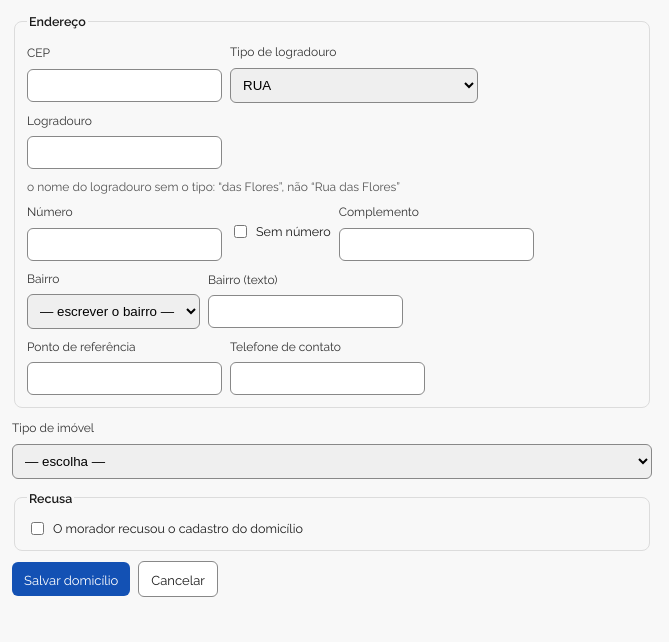
Scenario: HouseholdForm › o nome do logradouro não repete o tipo
Type "81020-000" into the field labelled "CEP" at (124, 85), box [27, 68, 222, 102]
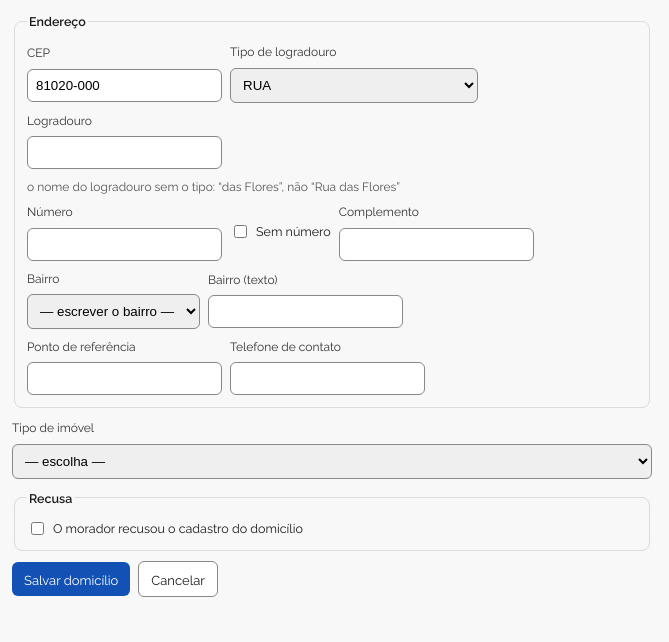
Select "RUA" in the dropdown labelled "Tipo de logradouro" at (354, 85), box [230, 68, 478, 102]
Type "das Flores" into the field labelled "Logradouro" at (124, 152), box [27, 136, 222, 169]
Type "120" into the field labelled "Número" at (124, 244), box [27, 228, 222, 261]
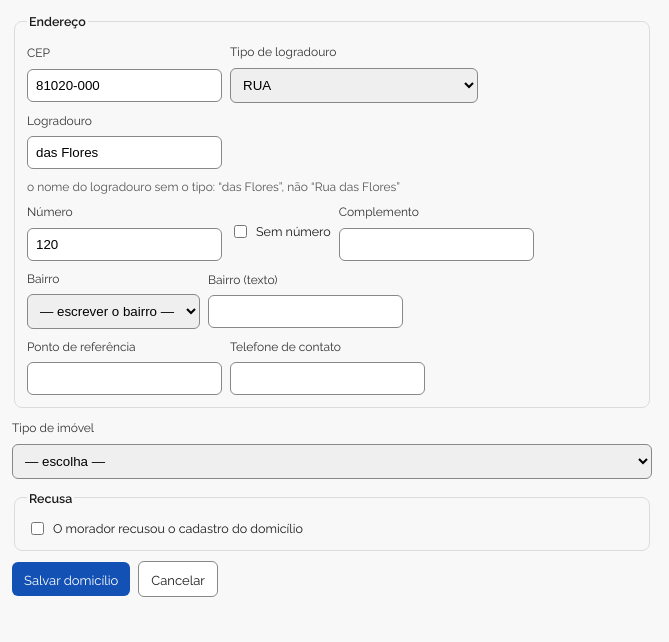
Select "Vila Verde" in the dropdown labelled "Bairro" at (114, 312), box [27, 294, 200, 329]
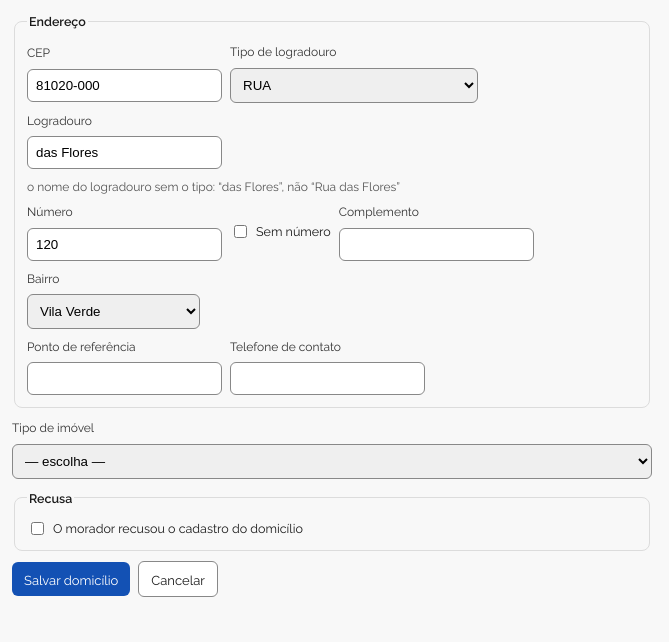
Select "Comércio" in the dropdown labelled "Tipo de imóvel" at (332, 461), box [12, 444, 652, 479]
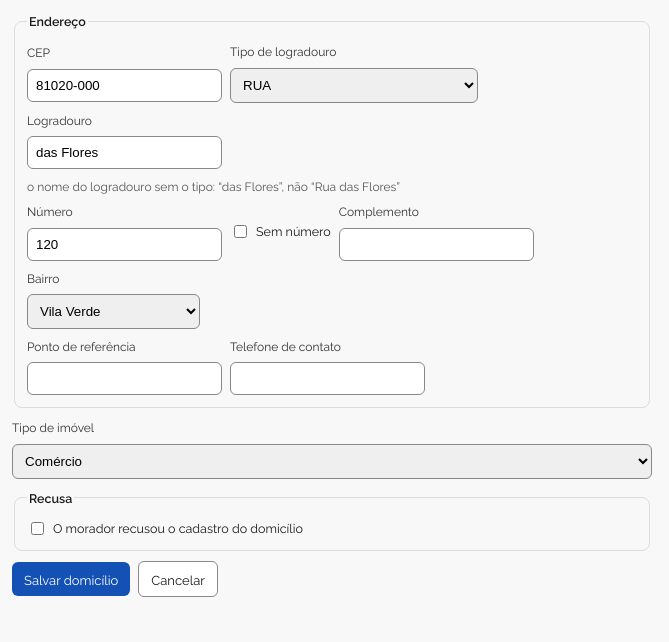
Replace the text in the field labelled "Logradouro" with "Rua das Flores" at (124, 152), box [27, 136, 222, 169]
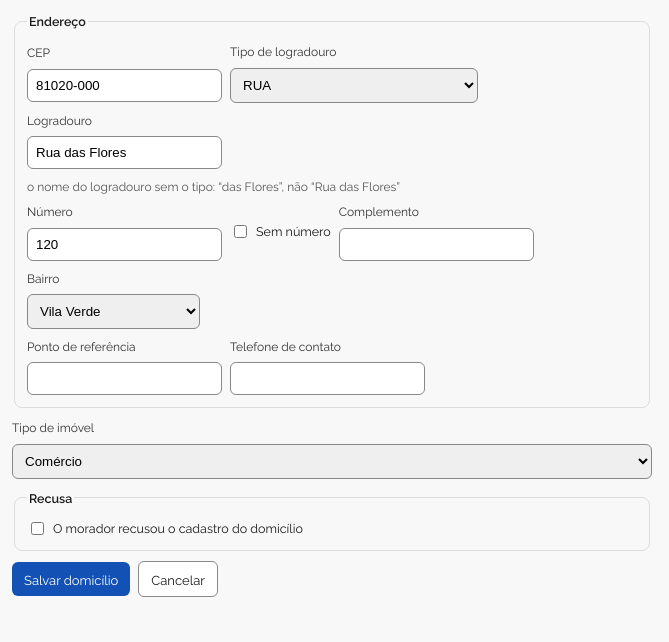
Click the button "Salvar domicílio" at (71, 579), box [12, 562, 130, 596]
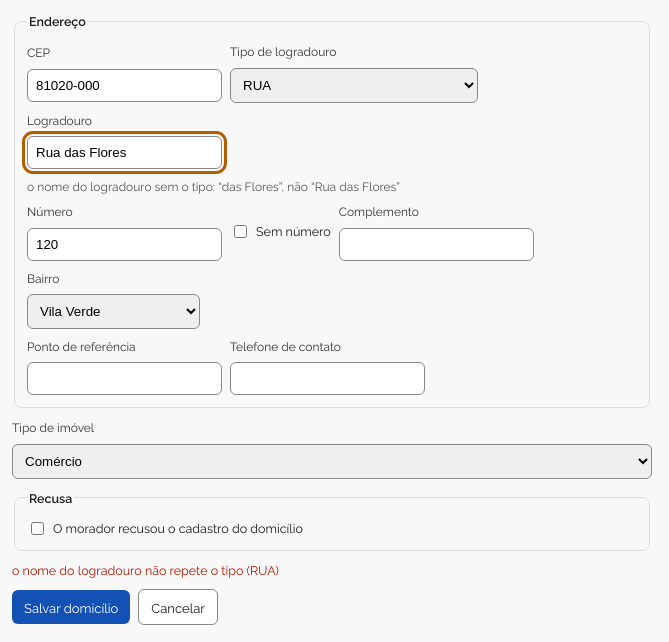
Expected: the message reads "o nome do logradouro não repete o tipo (RUA)", [12, 561, 279, 578]
